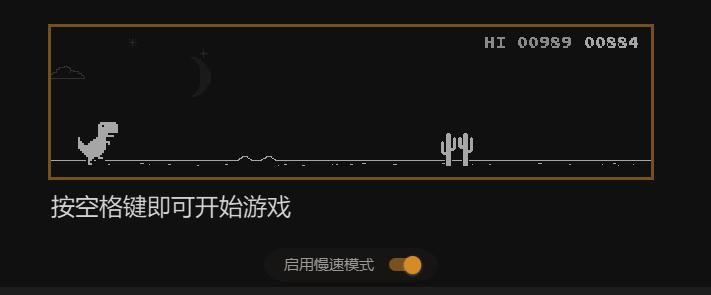cactus: (436, 132, 478, 169)
dino: (77, 121, 120, 166)
